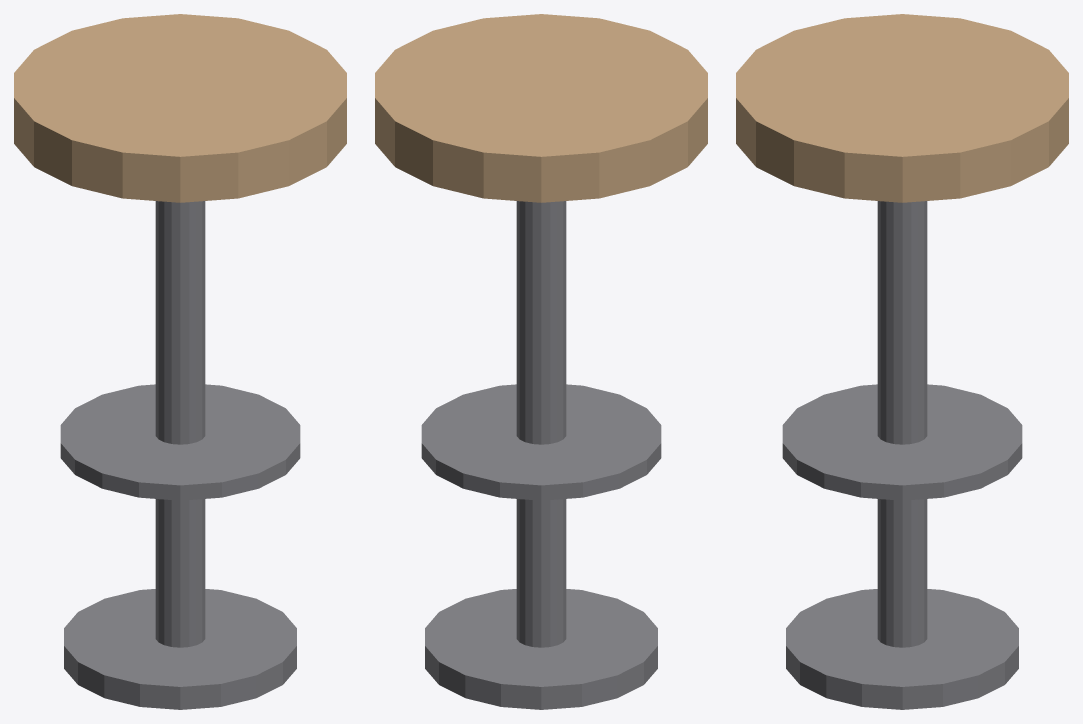
Rendered from mocan-51.glb.
3 views of the same model, side by side, from view 1: azimuth 30°, elevation 25°; view 2: azimuth 150°, elevation 25°; view 3: azimuth 270°, elevation 25° (orthographic).
Parts seen in each view (by area): view 1: furniture; view 2: furniture; view 3: furniture.
Part boxes in pixels (x1,y1,x2,y2): furniture: (14,14,346,709); furniture: (375,14,707,709); furniture: (736,14,1068,709).
Bounding box in the file's own units: 0.4 × 0.75 × 0.3939.
